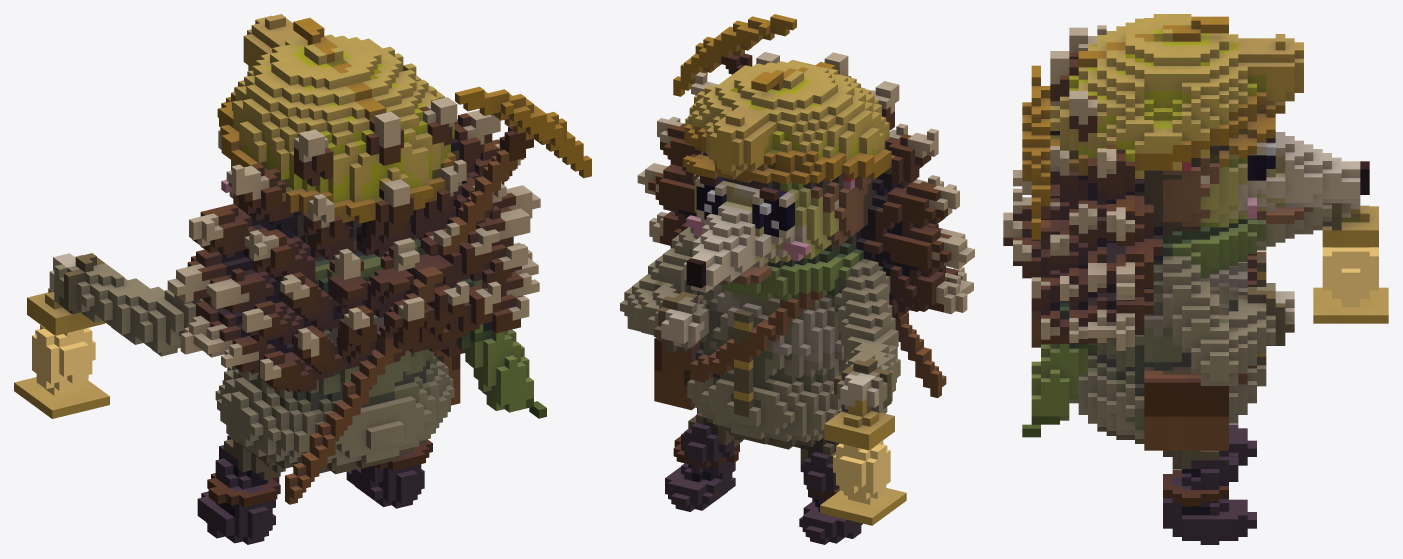
File: Moss.glb
3 views of the same model, side by side, from view 1: azimuth 30°, elevation 25°; view 2: azimuth 150°, elevation 25°; view 3: azimuth 270°, elevation 25° (orthographic). The views are drawn at different scales.
Parts seen in each view (by area): view 1: Body__Tex, Head__Tex, ArmL2__Tex, LegL2__Tex, ArmL2__Glow, LegR2__Tex, LegL1__Tex, ArmL1__Tex; view 2: Body__Tex, Head__Tex, ArmL2__Tex, LegR2__Tex, ArmL1__Tex, ArmR2__Tex, LegL2__Tex, ArmL2__Glow, ArmR1__Tex, LegR1__Tex, LegL1__Tex; view 3: Body__Tex, Head__Tex, LegR2__Tex, ArmL2__Tex, ArmR2__Tex, ArmR1__Tex, ArmL2__Glow, LegL2__Tex, LegR1__Tex.
Boxes of the visible parts, box(x1,y1,x2,y2) form: Body__Tex: box(167, 86, 591, 504); Head__Tex: box(217, 14, 459, 253); ArmL2__Tex: box(14, 253, 180, 418); LegL2__Tex: box(197, 435, 280, 544); ArmL2__Glow: box(32, 325, 95, 395); LegR2__Tex: box(346, 439, 432, 508); LegL1__Tex: box(224, 438, 285, 480); ArmL1__Tex: box(161, 289, 204, 336); Body__Tex: box(637, 14, 974, 449); Head__Tex: box(683, 60, 895, 292); ArmL2__Tex: box(820, 338, 906, 525); LegR2__Tex: box(665, 423, 739, 511); ArmL1__Tex: box(831, 259, 898, 358); ArmR2__Tex: box(620, 281, 709, 352); LegL2__Tex: box(799, 452, 862, 544); ArmL2__Glow: box(833, 440, 890, 504); ArmR1__Tex: box(639, 227, 696, 294); LegR1__Tex: box(688, 408, 743, 446); LegL1__Tex: box(800, 443, 839, 464); Body__Tex: box(1003, 25, 1266, 450); Head__Tex: box(1050, 14, 1369, 235); LegR2__Tex: box(1163, 450, 1256, 544); ArmL2__Tex: box(1257, 203, 1388, 323); ArmR2__Tex: box(1191, 283, 1294, 385); ArmR1__Tex: box(1153, 256, 1228, 368); ArmL2__Glow: box(1322, 247, 1378, 307); LegL2__Tex: box(1229, 424, 1256, 465); LegR1__Tex: box(1163, 450, 1219, 469).
Size of the model in its own units: 3.6 by 4.2 by 3.08.
